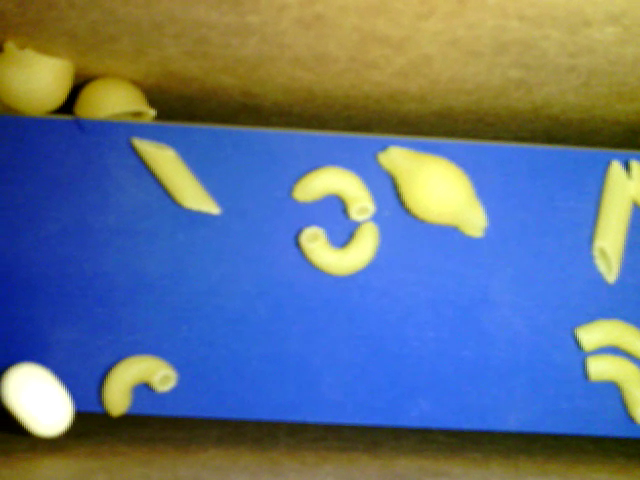elbow: (290, 213, 382, 279), (96, 349, 178, 419), (289, 159, 376, 215), (581, 353, 639, 425), (567, 311, 639, 360)
penne: (131, 136, 219, 213), (585, 153, 633, 290), (626, 161, 639, 207)
shell: (370, 140, 481, 239), (1, 38, 80, 114), (79, 74, 155, 121)
